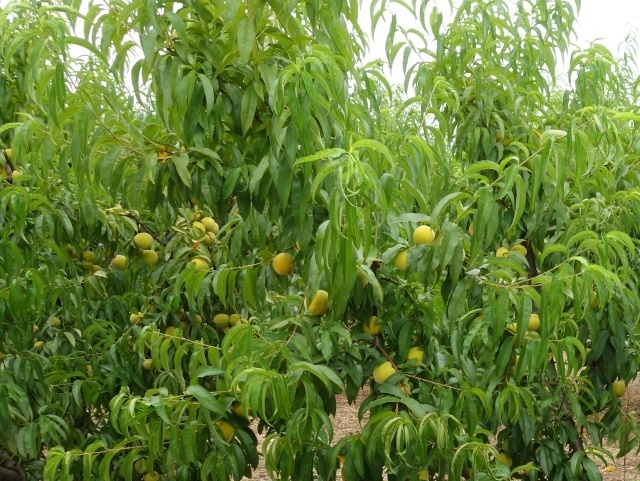peach: (267, 250, 299, 281), (368, 356, 399, 388), (302, 288, 334, 318), (389, 248, 418, 275), (411, 222, 439, 249), (403, 343, 430, 370), (361, 314, 386, 339), (189, 252, 217, 274), (132, 229, 158, 252), (607, 378, 630, 399), (506, 240, 530, 259), (491, 243, 512, 264), (524, 313, 546, 333), (110, 252, 132, 272), (201, 228, 220, 249), (213, 310, 231, 332), (495, 449, 514, 469), (498, 436, 516, 455), (197, 215, 218, 231)
